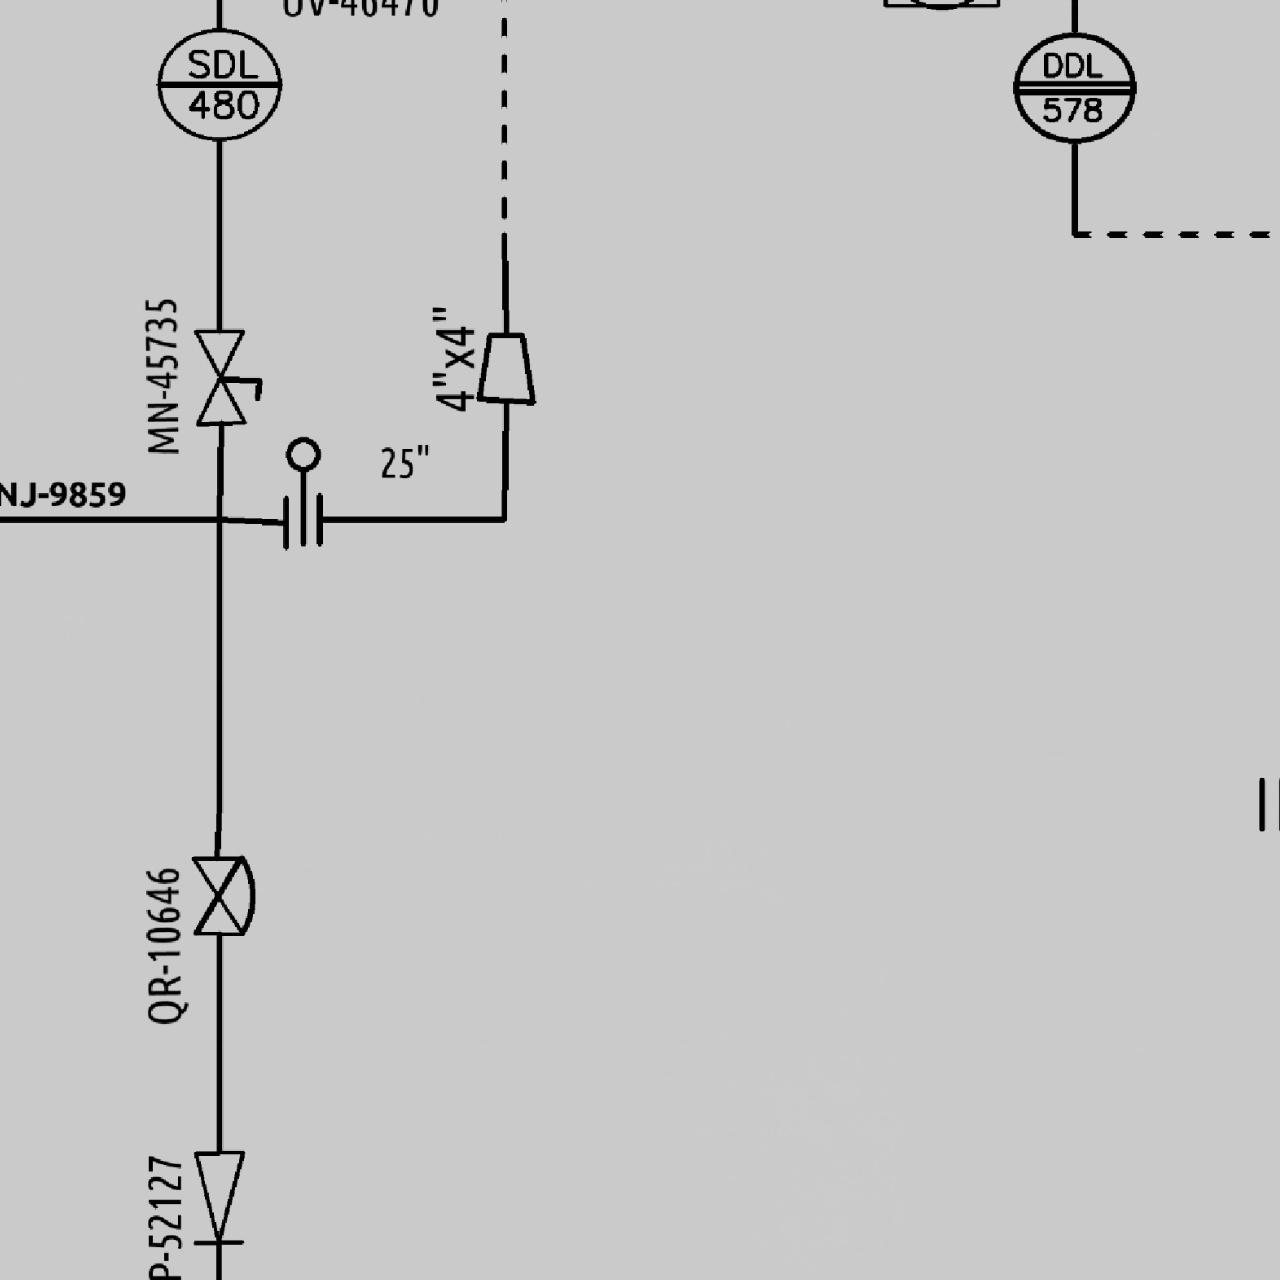Control-Panel: (1008, 22, 1139, 152)
